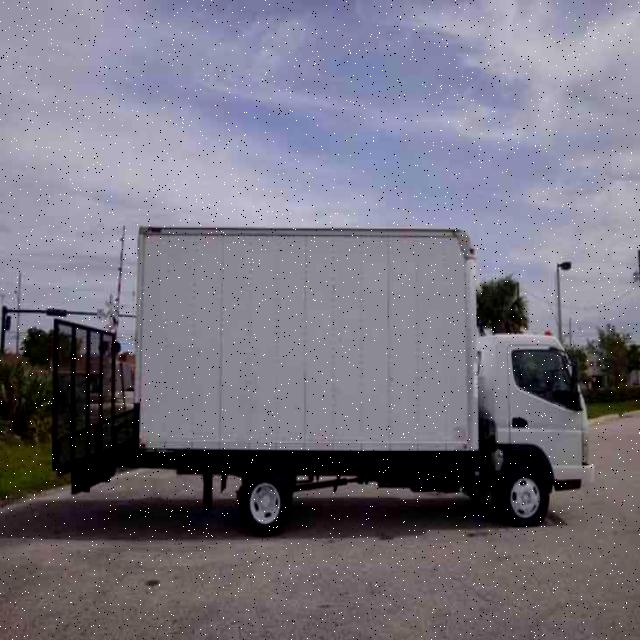truck: (49, 215, 597, 518)
